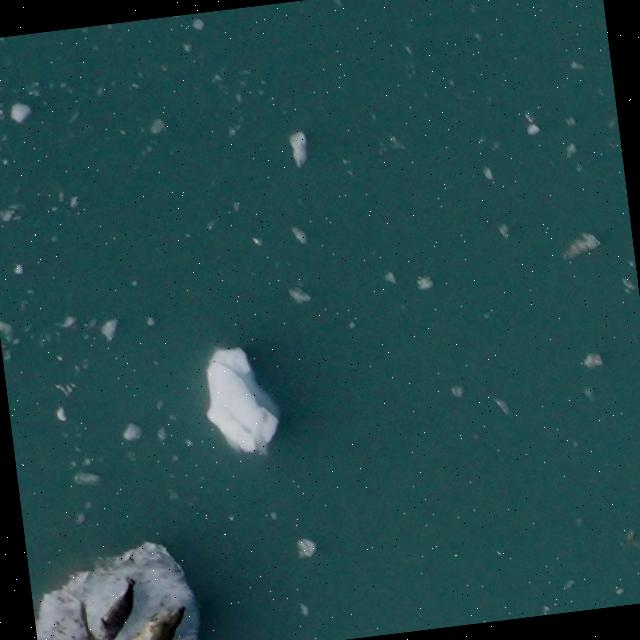seal: (82, 573, 147, 640), (108, 598, 194, 640)
